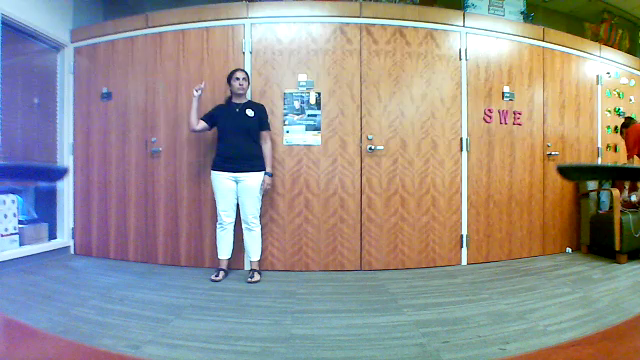up: (187, 73, 207, 99)
